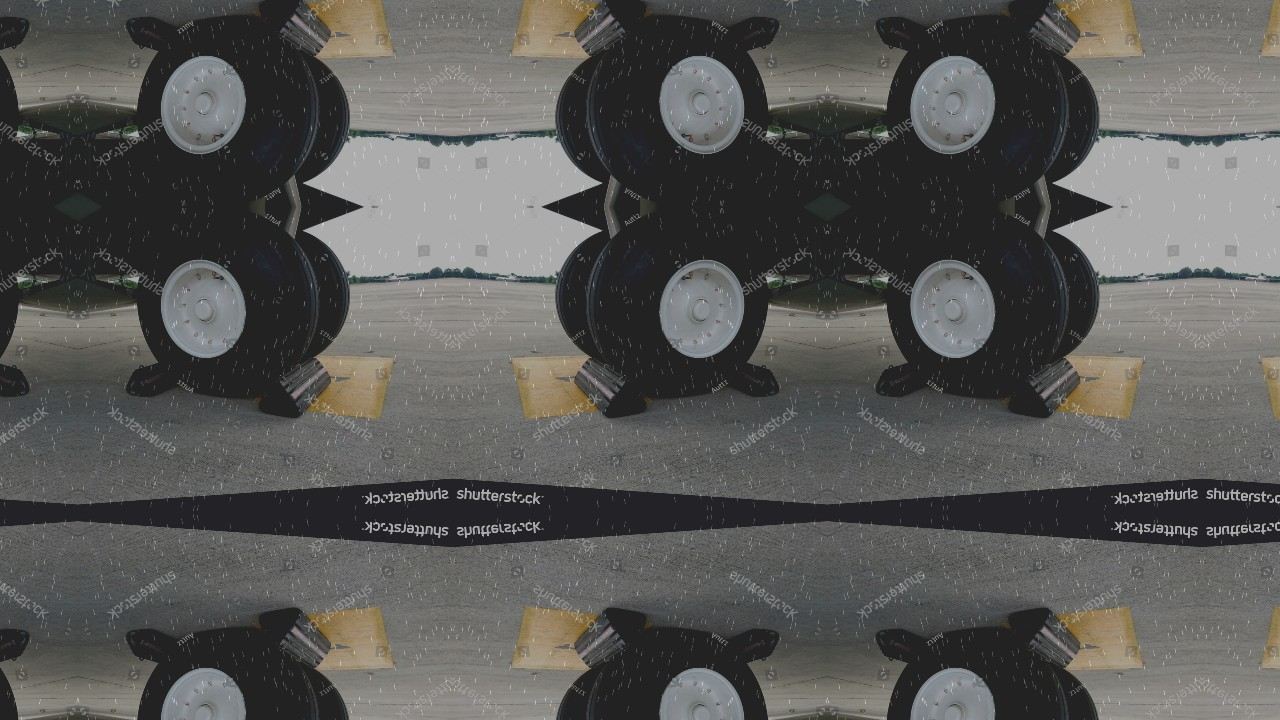chock: (256, 356, 333, 420), (572, 356, 649, 420), (1006, 356, 1083, 420), (256, 606, 333, 670), (572, 606, 649, 670), (1006, 606, 1083, 670), (256, 0, 333, 58), (572, 0, 649, 58), (1006, 0, 1083, 58), (123, 14, 182, 57), (723, 14, 782, 57), (873, 14, 932, 57), (123, 357, 182, 399), (723, 357, 782, 399), (873, 357, 932, 399), (123, 627, 182, 669), (723, 627, 782, 669), (873, 627, 932, 669), (0, 14, 32, 57), (0, 357, 32, 399), (0, 627, 32, 669)
wheel: (140, 11, 318, 207), (587, 11, 765, 207), (890, 11, 1068, 207), (140, 207, 318, 402), (587, 207, 765, 402), (890, 207, 1068, 402), (140, 624, 318, 720), (587, 624, 765, 720), (890, 624, 1068, 720), (286, 52, 356, 188), (549, 52, 619, 188), (1036, 52, 1106, 188), (286, 226, 356, 362), (549, 226, 619, 362), (1036, 226, 1106, 362), (286, 664, 356, 720), (549, 664, 619, 720), (1036, 664, 1106, 720), (0, 11, 15, 207), (0, 207, 15, 402)
